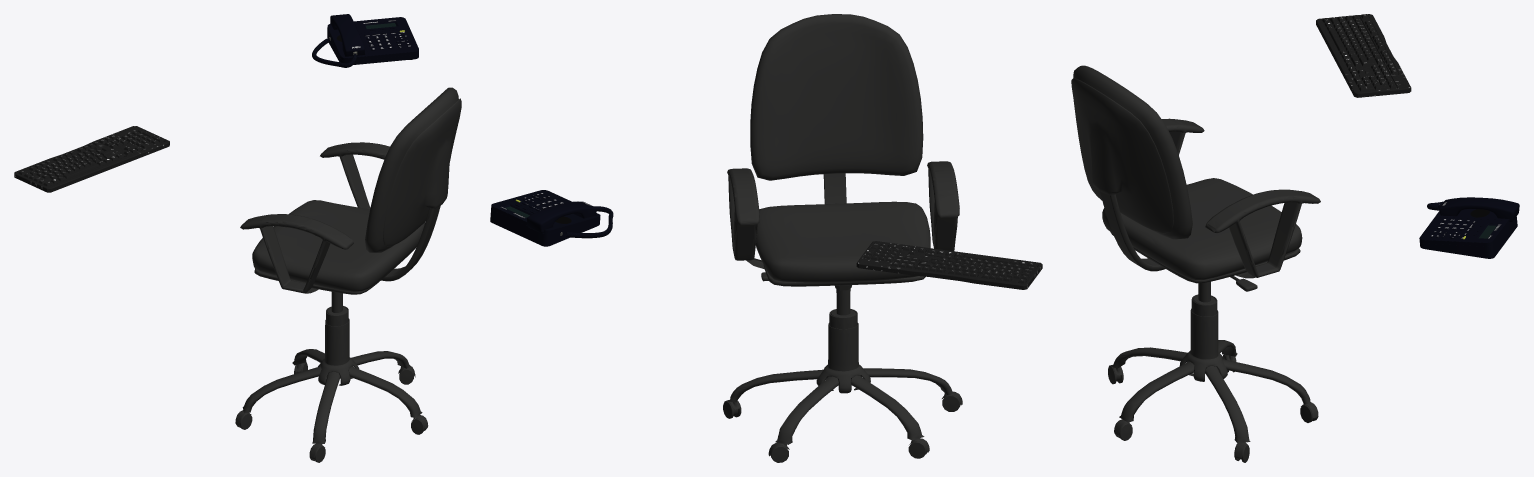
File: postazioniparte5.gltf
3 views of the same model, side by side, from view 1: azimuth 30°, elevation 25°; view 2: azimuth 150°, elevation 25°; view 3: azimuth 270°, elevation 25° (orthographic). The views are drawn at different scales.
Visible parts, largest first — view 1: Copia Sedia, Copia Tastiera, Copia Telefono; view 2: Copia Sedia, Copia Tastiera, Copia Telefono; view 3: Copia Sedia, Copia Tastiera, Copia Telefono.
Boxes of the visible parts, box(x1,y1,x2,y2) form: Copia Sedia: box(235, 87, 461, 462); Copia Tastiera: box(14, 126, 169, 192); Copia Telefono: box(312, 14, 418, 67); Copia Sedia: box(723, 14, 962, 462); Copia Tastiera: box(856, 241, 1042, 289); Copia Telefono: box(490, 190, 613, 246); Copia Sedia: box(1071, 65, 1320, 462); Copia Tastiera: box(1316, 14, 1411, 97); Copia Telefono: box(1419, 197, 1519, 258).
Size of the model in its own units: 1.39 by 1.01 by 1.12.
Materials: 4 (3 with a texture image).
